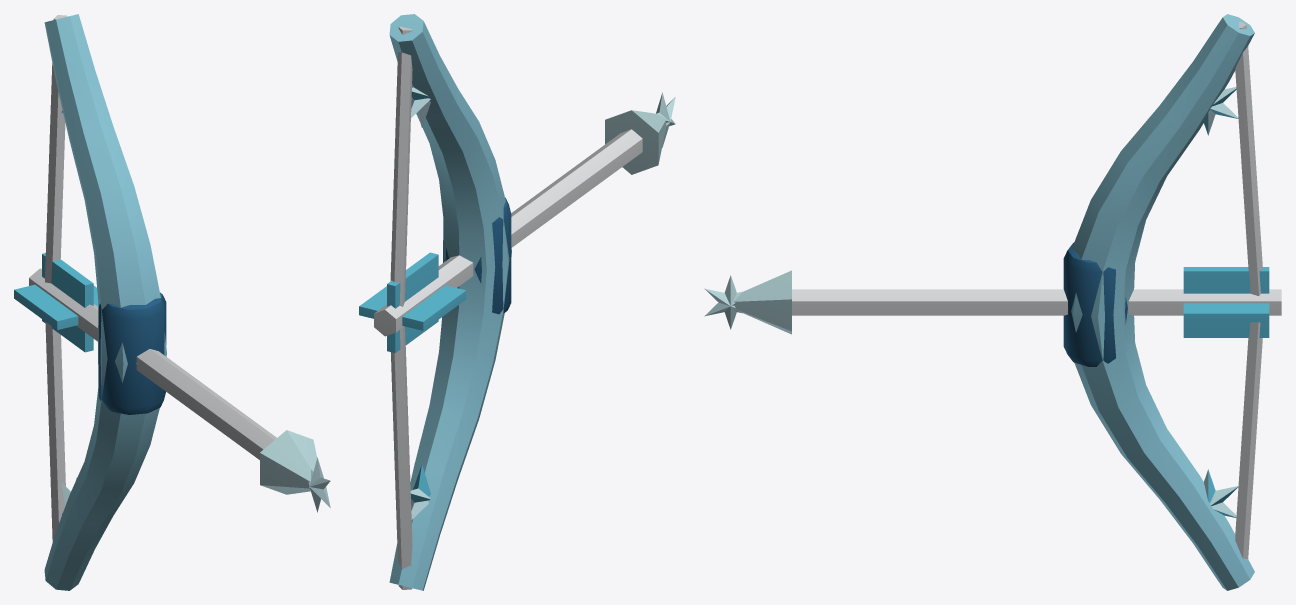
Rendered from w_y_frostbow.glb.
3 renders of one model, left to right at view 1: azimuth 30°, elevation 25°; view 2: azimuth 150°, elevation 25°; view 3: azimuth 270°, elevation 25°, orthographic.
Visible parts, largest first — view 1: body; view 2: body; view 3: body.
Boxes of the visible parts, x1,y1,x2,y2 form: body: (14,14,330,590); body: (359,14,675,590); body: (704,14,1281,590).
Bounding box in the file's own units: 0.09 × 0.7714 × 0.7075.
